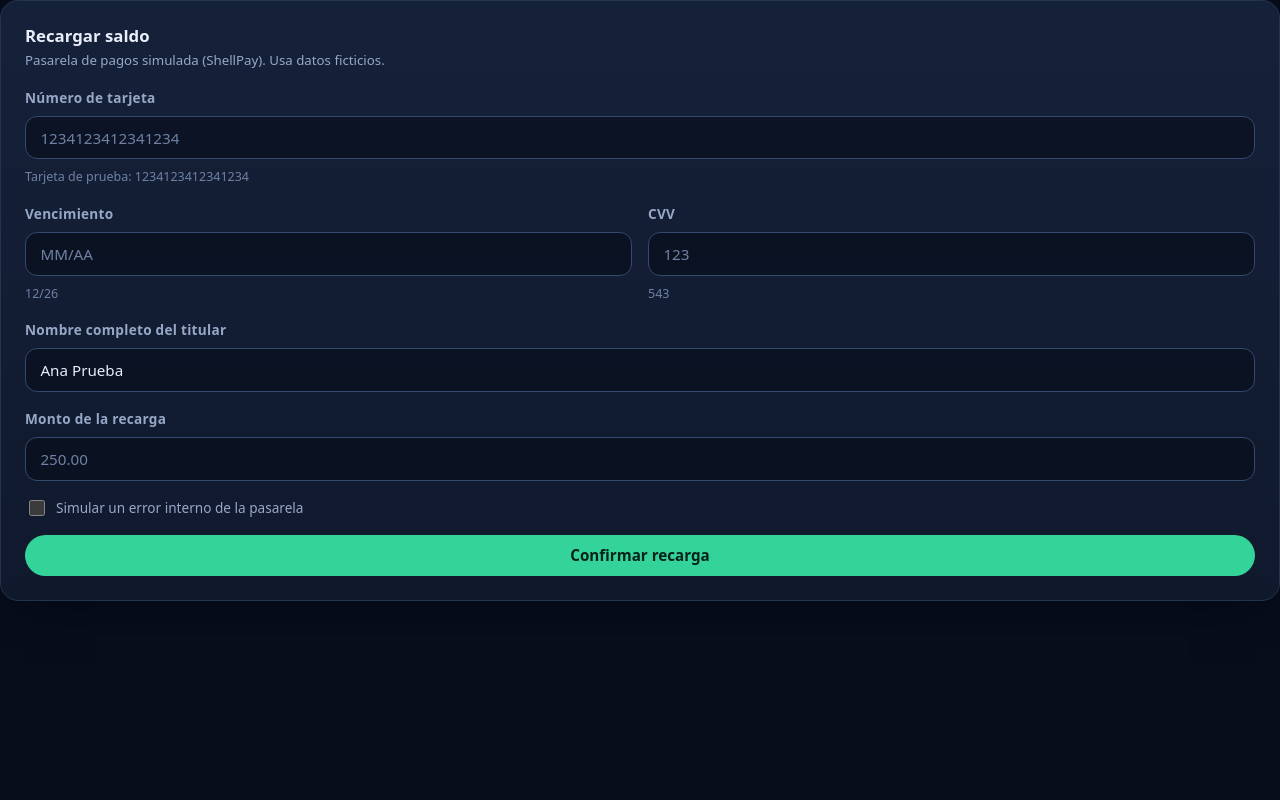
TopUpForm › limita el vencimiento a números con diagonal automática y el CVV a 3 dígitos
This screenshot has width=1280, height=800.
Type "12abc26" into the field labelled "Vencimiento".
click(328, 254); type("12abc26")  # box x1=25 y1=232 x2=632 y2=276
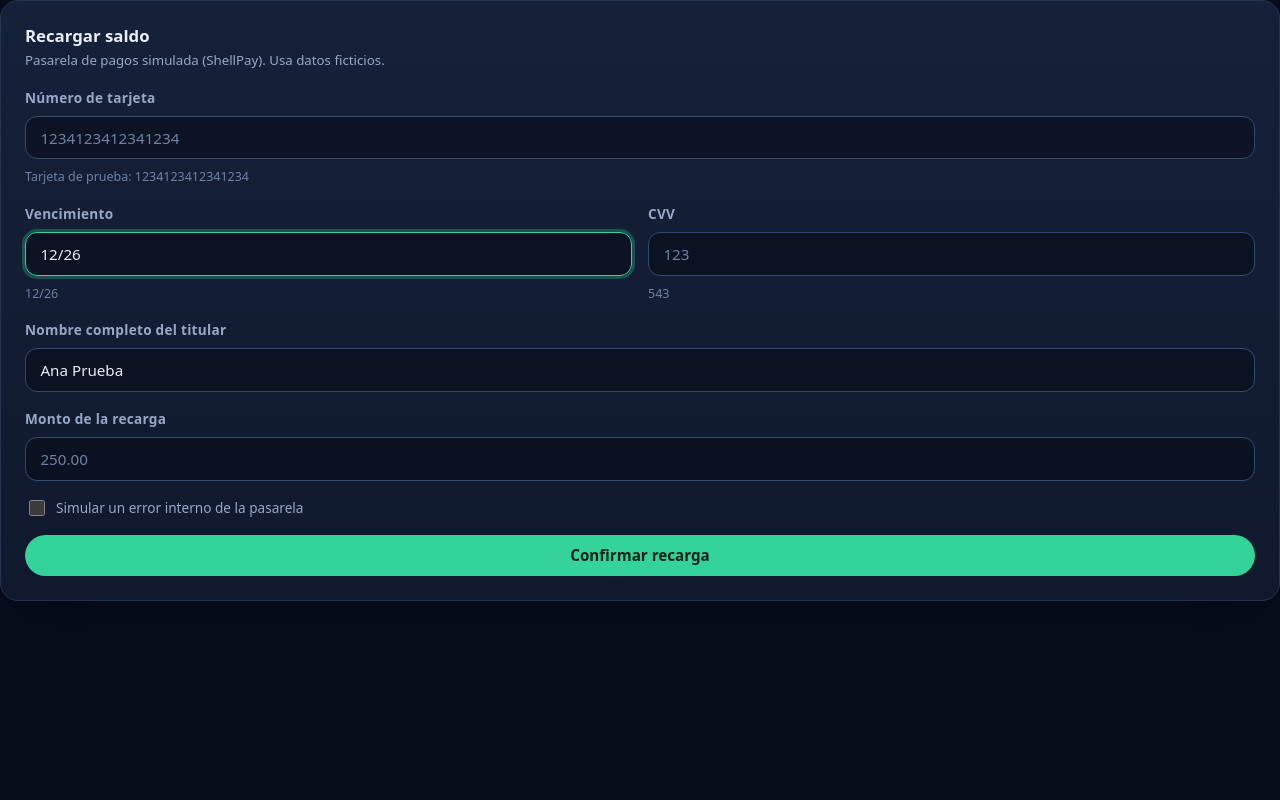
Now the field labelled "Vencimiento" holds "12/26", box x1=25 y1=232 x2=632 y2=276
Type "54a321" into the field labelled "CVV".
click(952, 254); type("54a321")  # box x1=648 y1=232 x2=1255 y2=276
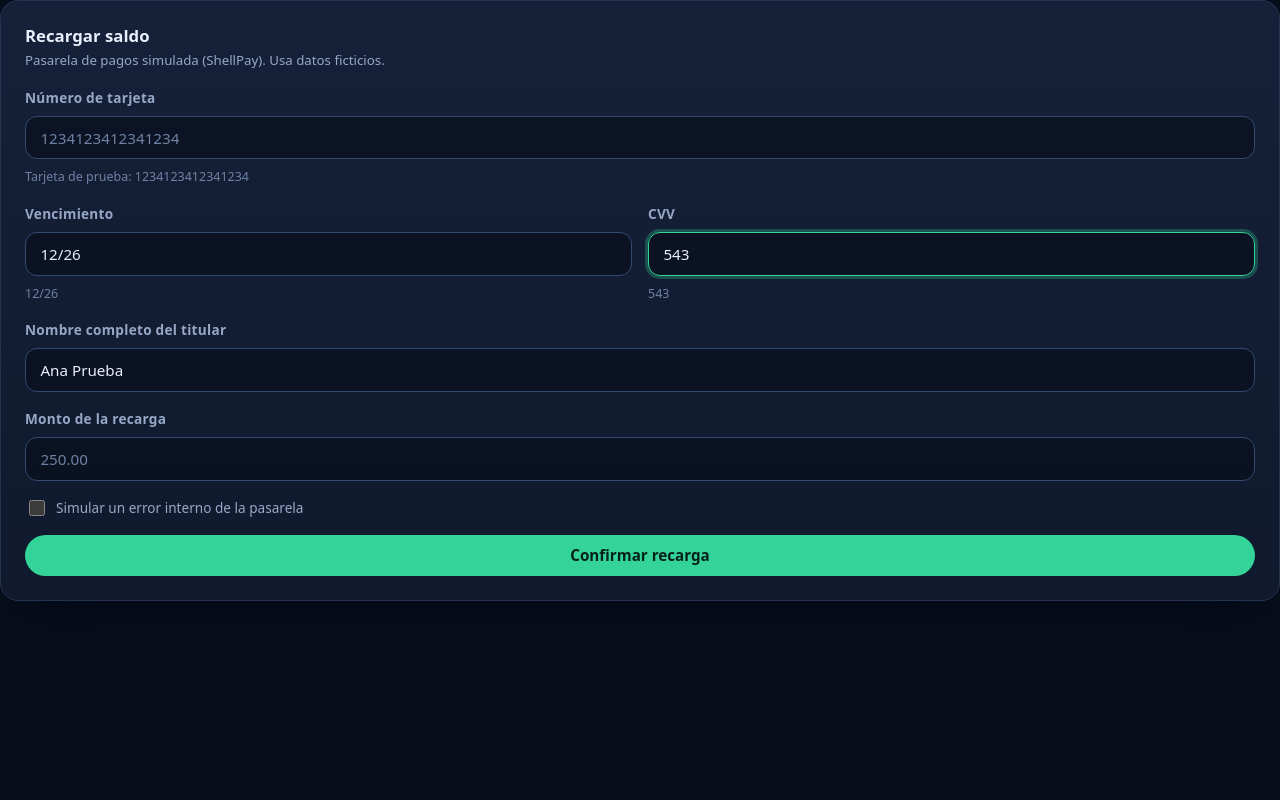
Now the field labelled "CVV" holds "543", box x1=648 y1=232 x2=1255 y2=276
